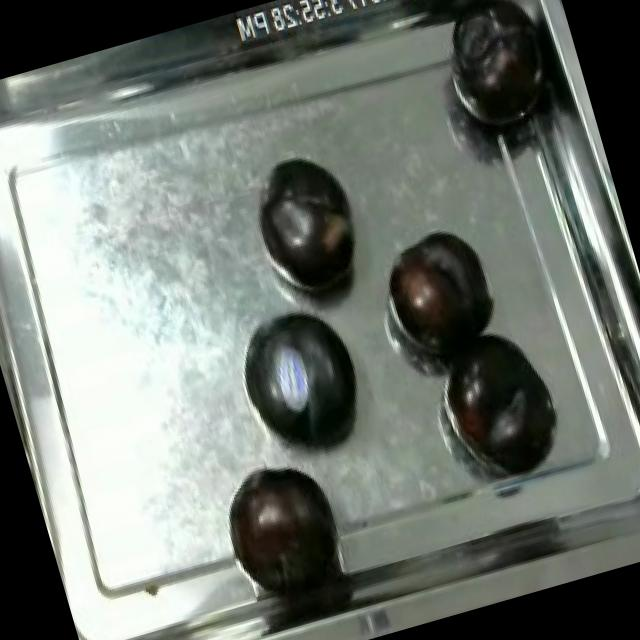Fruit: (226, 293, 382, 469), (422, 311, 574, 488), (208, 449, 355, 605), (242, 140, 376, 308), (371, 213, 511, 370), (433, 0, 556, 140)
